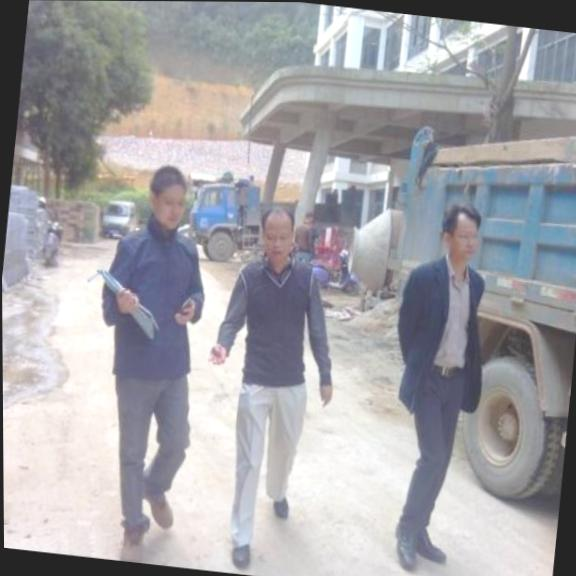no_safety_vest: (93, 221, 213, 385), (389, 258, 494, 407), (224, 252, 329, 394)
